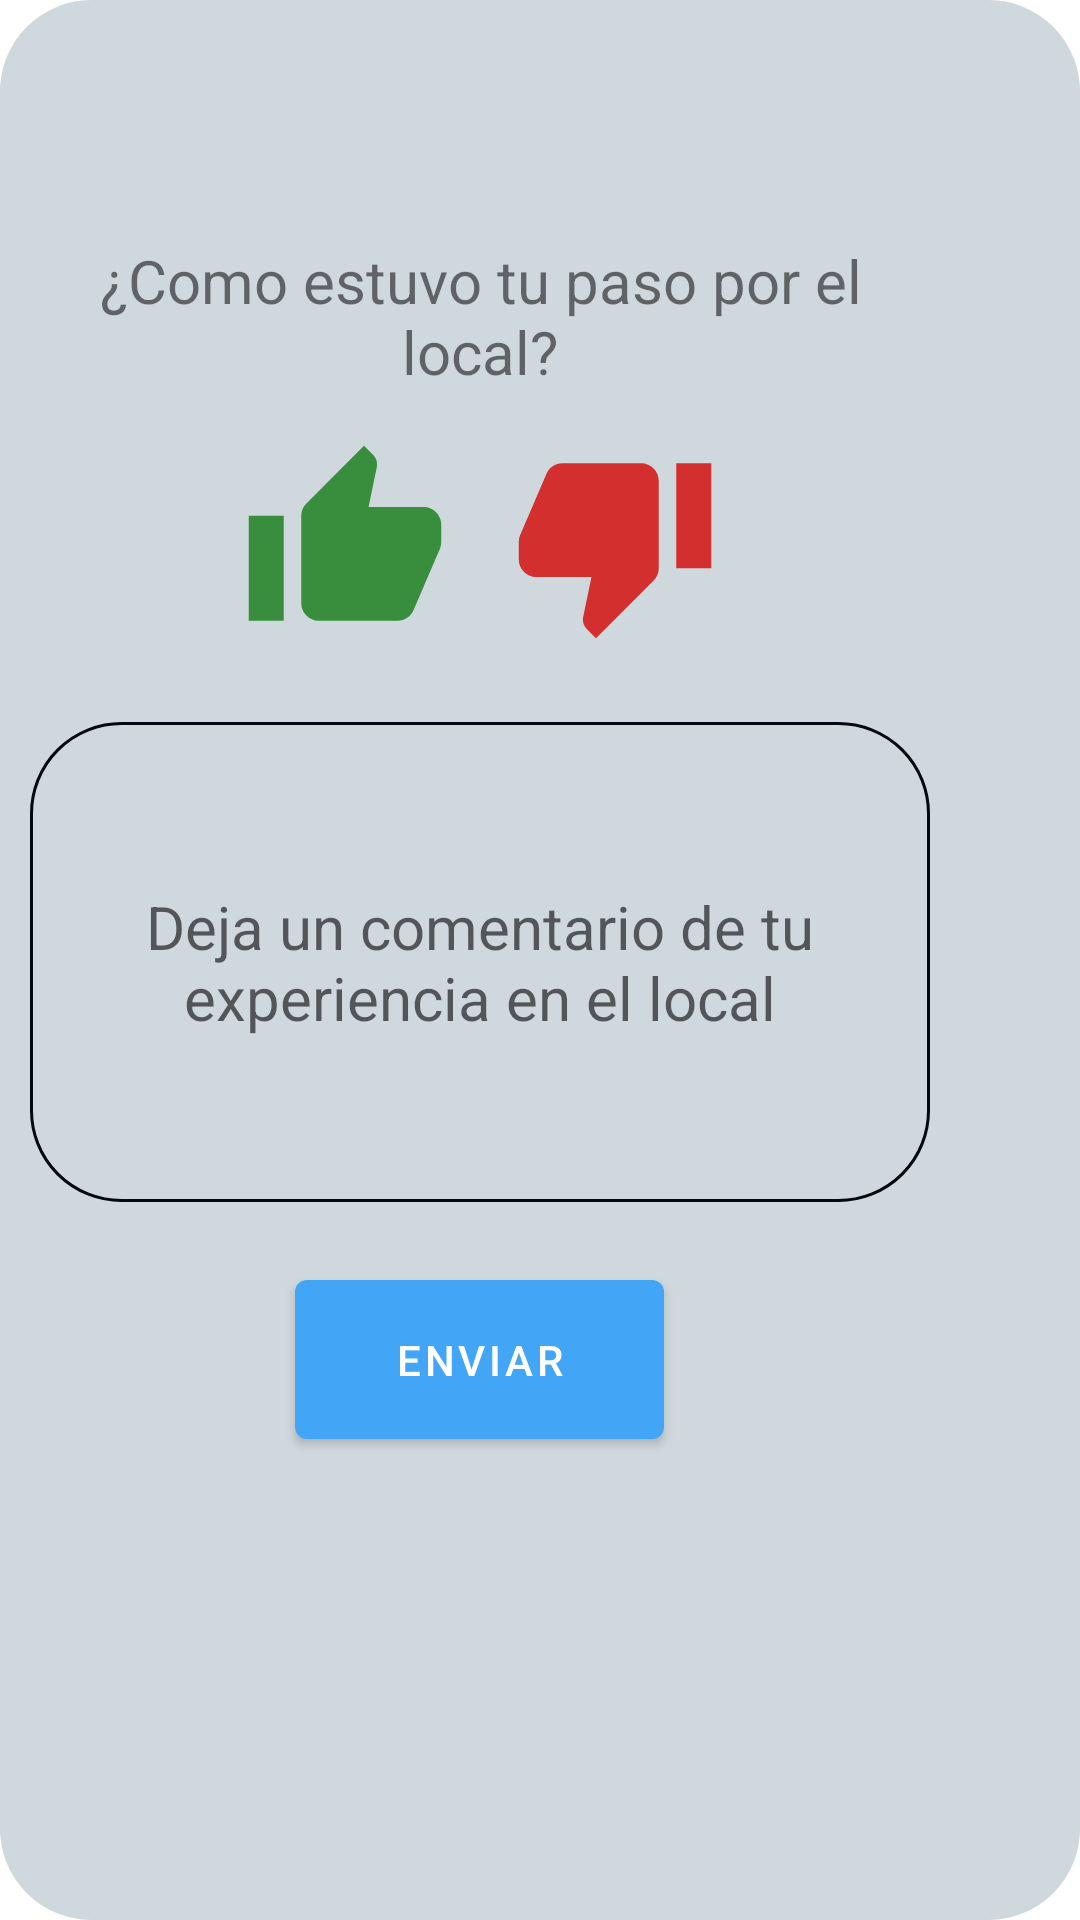

Icons on this 1080×1920 Android screen, each with the point to tap as (x,y):
megusta: (345,533)
nomegusta: (615,550)
